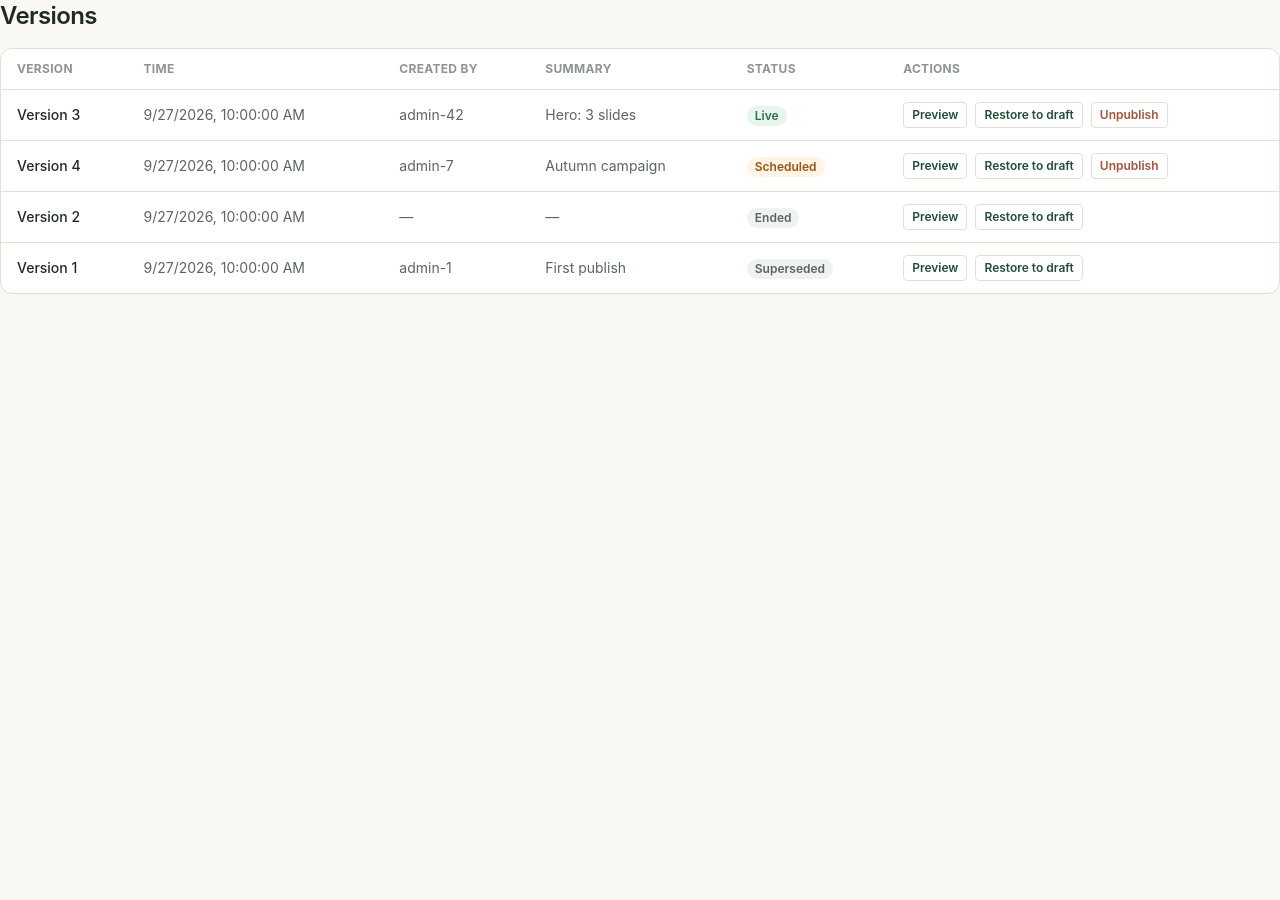
Test: HomepageVersionsPage › renders a readable error state for a malformed version document
Step 1. Click the button "Preview" in the row of "Version 3" → coordinates (935, 115), box left=903, top=102, right=968, bottom=128
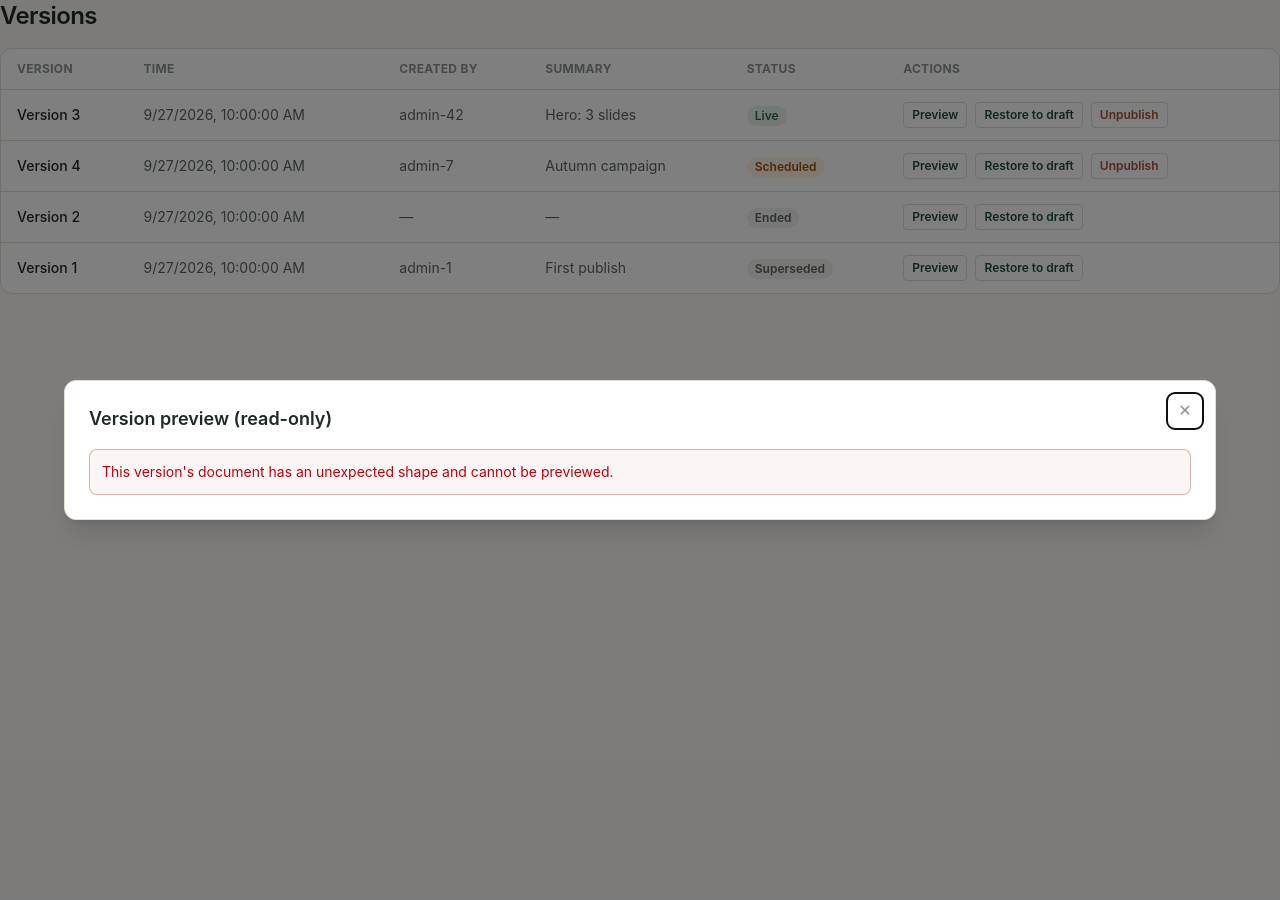
Expected: the text "This version's document has an unexpected shape and cannot be previewed." is shown, left=89, top=449, right=1191, bottom=495
